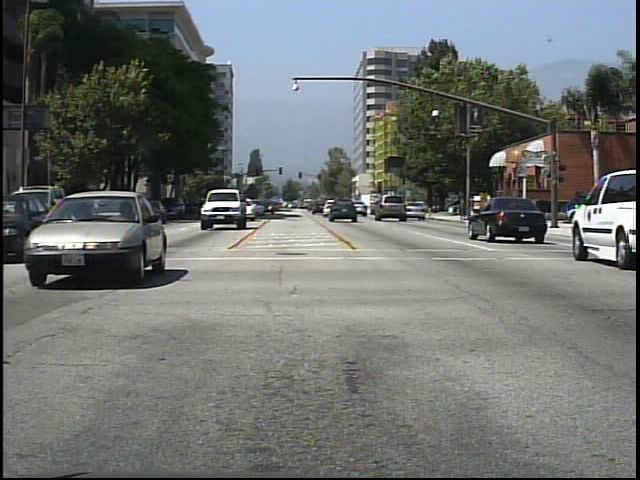person: (508, 192, 528, 231), (465, 190, 483, 226)
